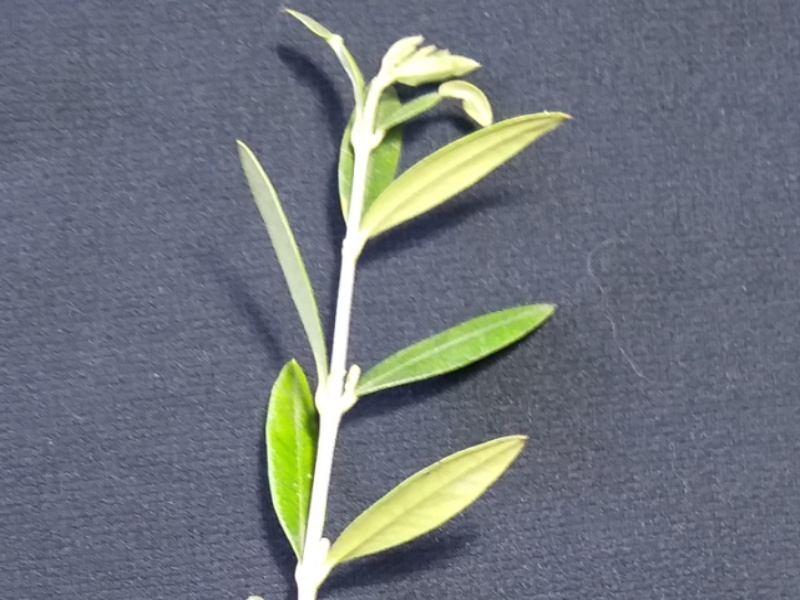yema: (297, 358, 374, 431), (282, 531, 343, 596), (330, 205, 384, 274), (335, 99, 392, 157)
